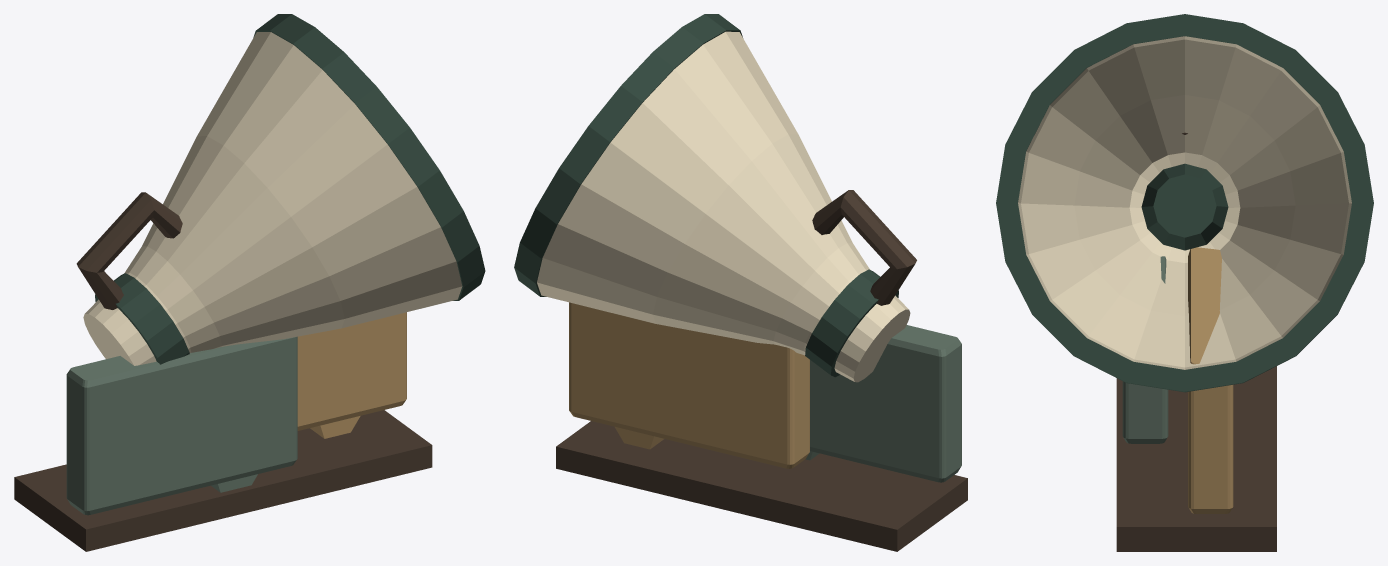
The model's file is 10_Student_Council_Megaphone.fbx.
The picture shows the model from 3 angles, left to right: view 1: azimuth 30°, elevation 25°; view 2: azimuth 150°, elevation 25°; view 3: azimuth 270°, elevation 25°; orthographic projection. The views are drawn at different scales.
Visible parts, largest first — view 1: 10_Student_Council_Megaphone__Megaphone, 10_Student_Council_Megaphone__Body; view 2: 10_Student_Council_Megaphone__Megaphone, 10_Student_Council_Megaphone__Body; view 3: 10_Student_Council_Megaphone__Megaphone, 10_Student_Council_Megaphone__Body.
Boxes of the visible parts, x1=… form: 10_Student_Council_Megaphone__Megaphone: x1=76, y1=14, x2=485, y2=365; 10_Student_Council_Megaphone__Body: x1=14, y1=312, x2=432, y2=551; 10_Student_Council_Megaphone__Megaphone: x1=514, y1=14, x2=916, y2=382; 10_Student_Council_Megaphone__Body: x1=556, y1=302, x2=967, y2=551; 10_Student_Council_Megaphone__Megaphone: x1=996, y1=14, x2=1373, y2=392; 10_Student_Council_Megaphone__Body: x1=1116, y1=247, x2=1276, y2=551.
Size of the model in its own units: 253 by 275 by 191.
1 material, 1 textured.
